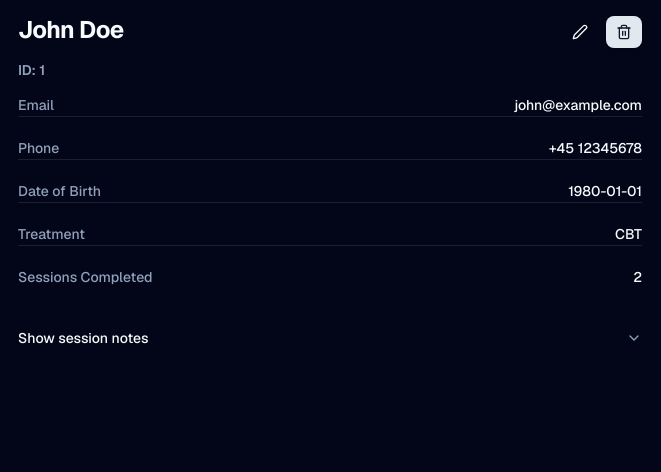
Test: EntityInfo › shows session notes after clicking accordion
Click the button "Show session notes" at (83, 338), box [18,312,642,364]
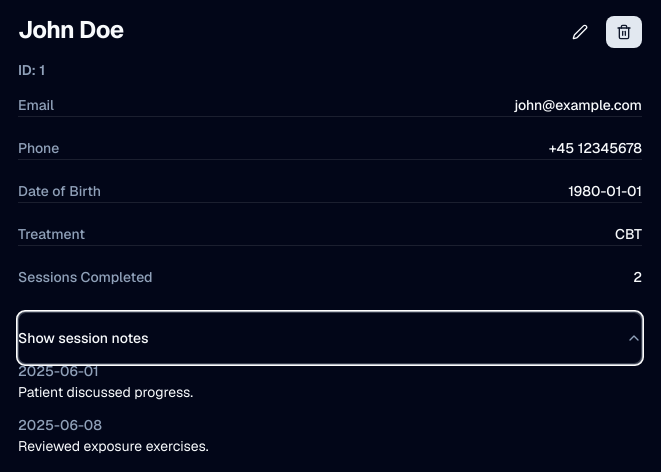
Result: the text "Patient discussed progress." is shown at [18,383,193,401]
Result: the text "Reviewed exposure exercises." is shown at [18,437,208,455]
